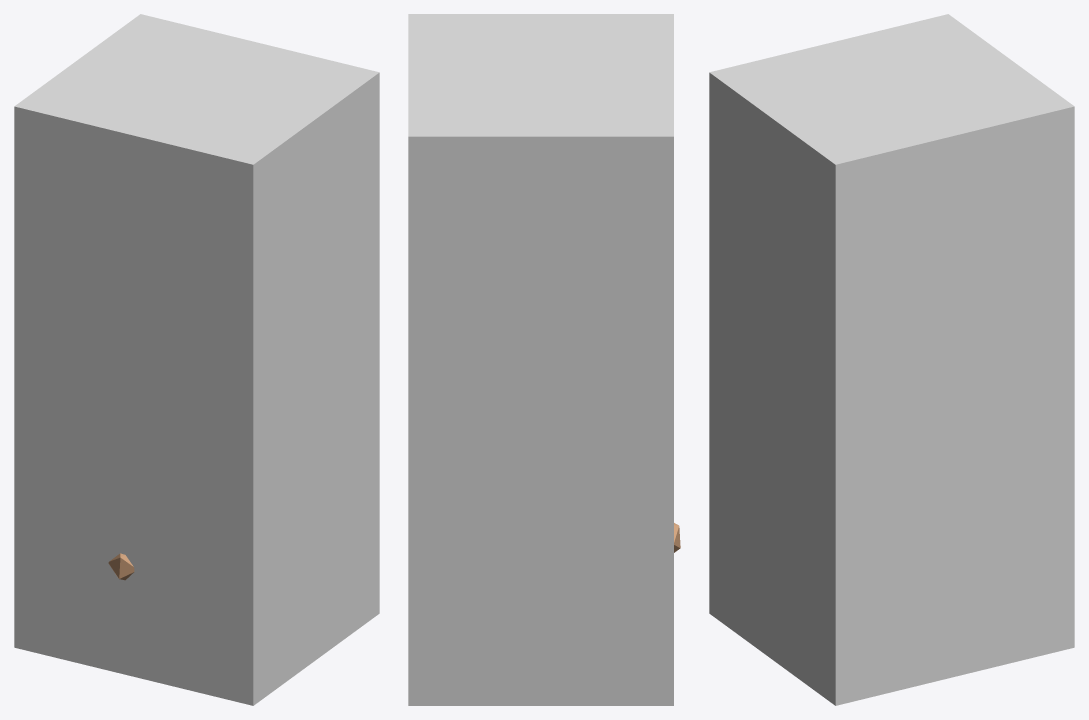
Rendered from jungle_monkey.fbx.
3 renders of one model, left to right at view 1: azimuth 30°, elevation 25°; view 2: azimuth 150°, elevation 25°; view 3: azimuth 270°, elevation 25°, orthographic. The views are drawn at different scales.
Parts seen in each view (by area): view 1: Root__0.00_1.75_0.22__1.48_3.50_1.62; view 2: Root__0.00_1.75_0.22__1.48_3.50_1.62; view 3: Root__0.00_1.75_0.22__1.48_3.50_1.62.
Boxes of the visible parts, x1=… form: Root__0.00_1.75_0.22__1.48_3.50_1.62: x1=14, y1=14, x2=379, y2=705; Root__0.00_1.75_0.22__1.48_3.50_1.62: x1=408, y1=14, x2=673, y2=705; Root__0.00_1.75_0.22__1.48_3.50_1.62: x1=709, y1=14, x2=1074, y2=705.
Bounding box in the file's own units: 58.57 × 98.36 × 59.98.
1 material, 1 textured.
